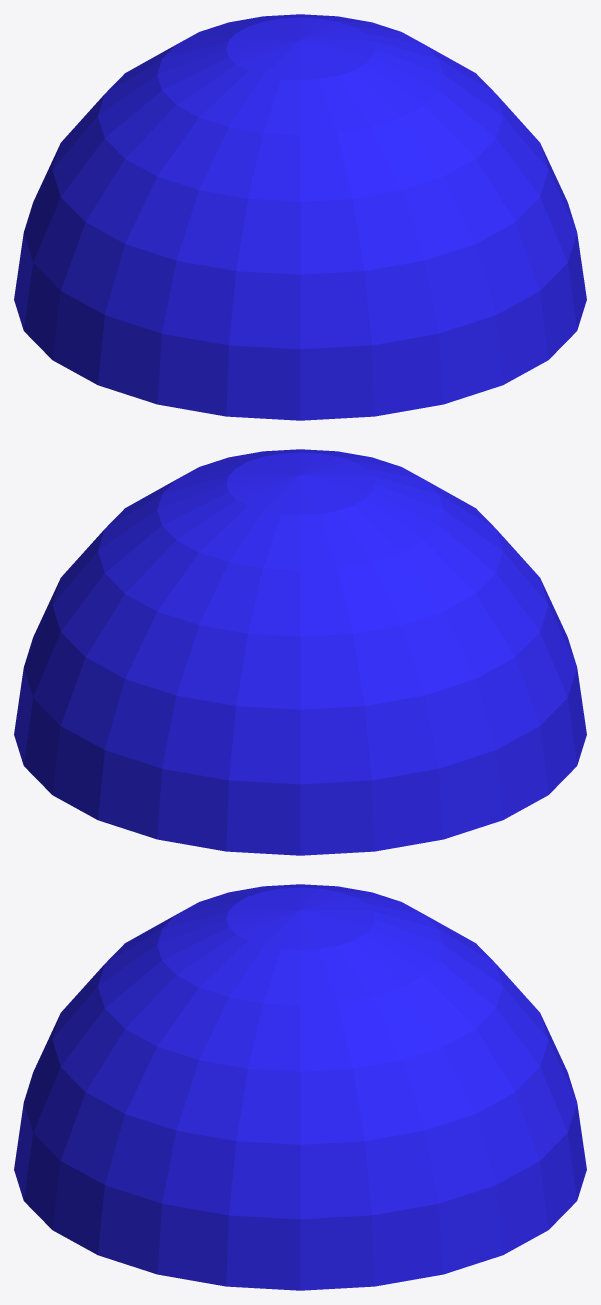
File: blue_25_opacity_dome.dae
3 renders of one model, top to bottom at view 1: azimuth 30°, elevation 25°; view 2: azimuth 150°, elevation 25°; view 3: azimuth 270°, elevation 25°, orthographic.
Visible parts, largest first — view 1: Component1; view 2: Component1; view 3: Component1.
Part boxes in pixels (<box>): Component1: <box>14,14,586,420</box>; Component1: <box>14,449,586,855</box>; Component1: <box>14,884,586,1290</box>.
Size of the model in its own units: 245371 by 245371 by 132150.
